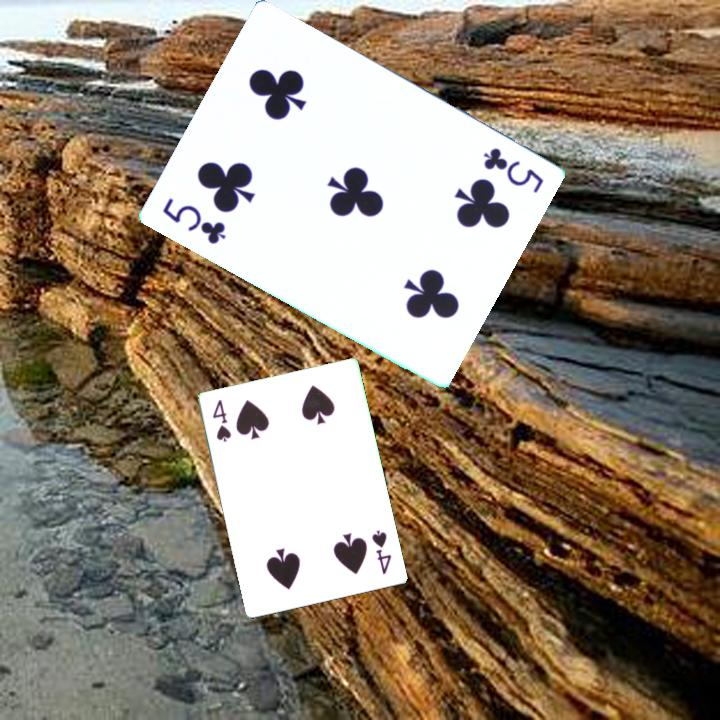4s: (369, 527, 395, 577), (209, 396, 235, 445)
5c: (158, 194, 228, 248), (479, 144, 546, 197)
